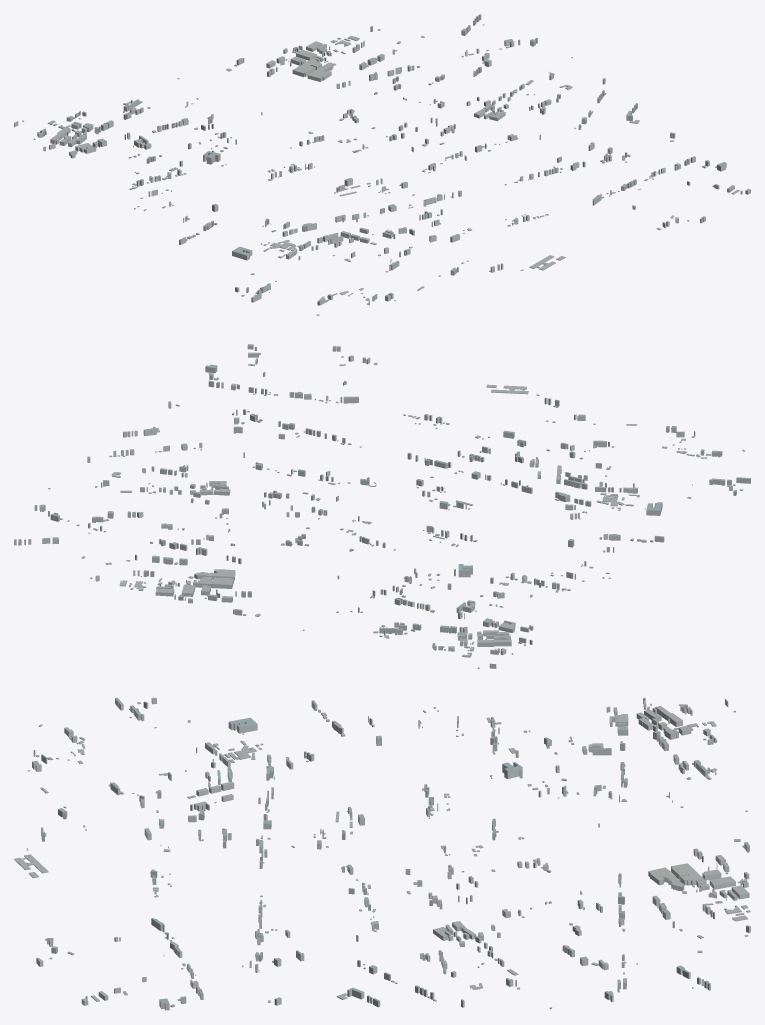
File: far.glb
The picture shows the model from 3 angles, top to bottom: view 1: azimuth 30°, elevation 25°; view 2: azimuth 150°, elevation 25°; view 3: azimuth 270°, elevation 25°; orthographic projection. The views are drawn at different scales.
Bounding box in the file's own units: 2115 × 27 × 2139.
